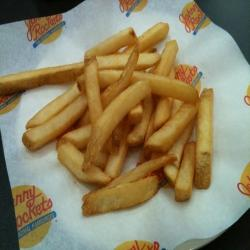fries: (36, 30, 225, 221)
